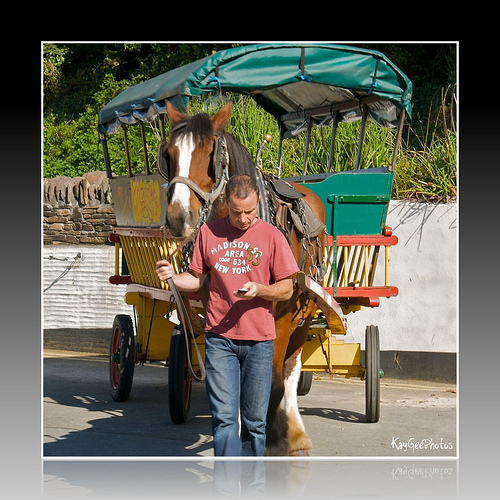horse: (156, 99, 349, 447)
